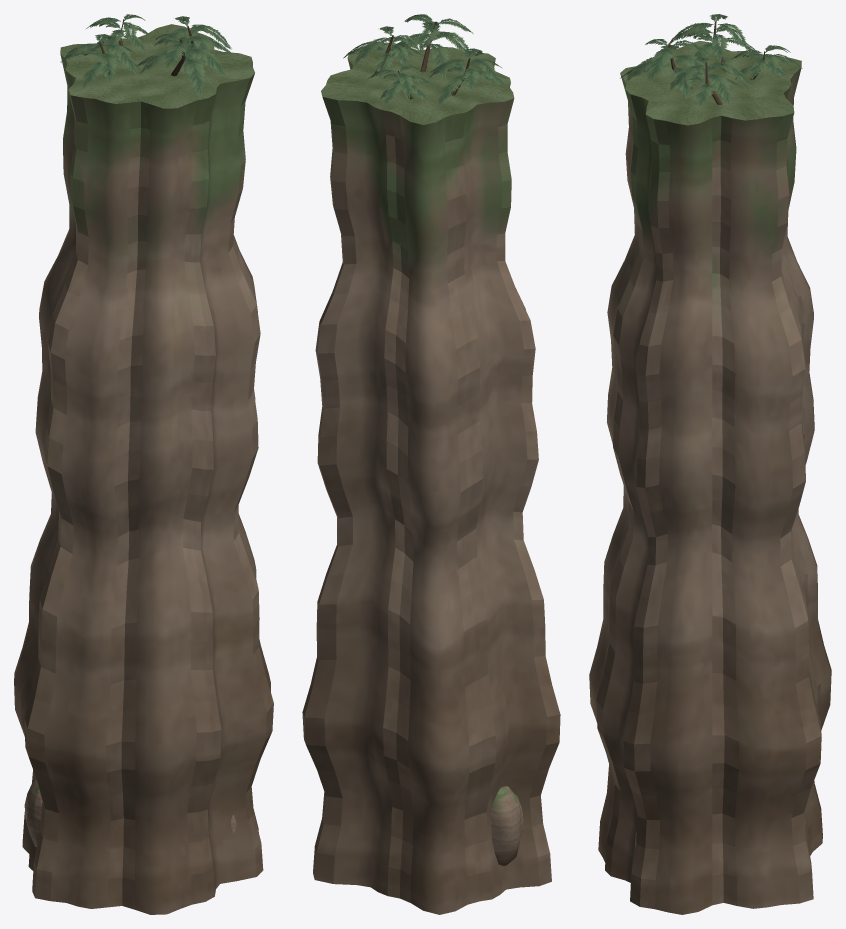
File: zjj_pillar_tall.glb
The picture shows the model from 3 angles, left to right: view 1: azimuth 30°, elevation 25°; view 2: azimuth 150°, elevation 25°; view 3: azimuth 270°, elevation 25°; orthographic projection. The views are drawn at different scales.
Visible parts, largest first — view 1: zjj_pillar_tall; view 2: zjj_pillar_tall; view 3: zjj_pillar_tall.
Boxes of the visible parts, x1,y1,x2,y2 form: zjj_pillar_tall: [14, 14, 273, 914]; zjj_pillar_tall: [302, 14, 560, 914]; zjj_pillar_tall: [589, 14, 831, 914].
Size of the model in its own units: 6.4 by 22 by 5.8.
2 materials, 2 textured.
